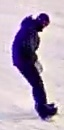snowboarder: (12, 13, 61, 123)
